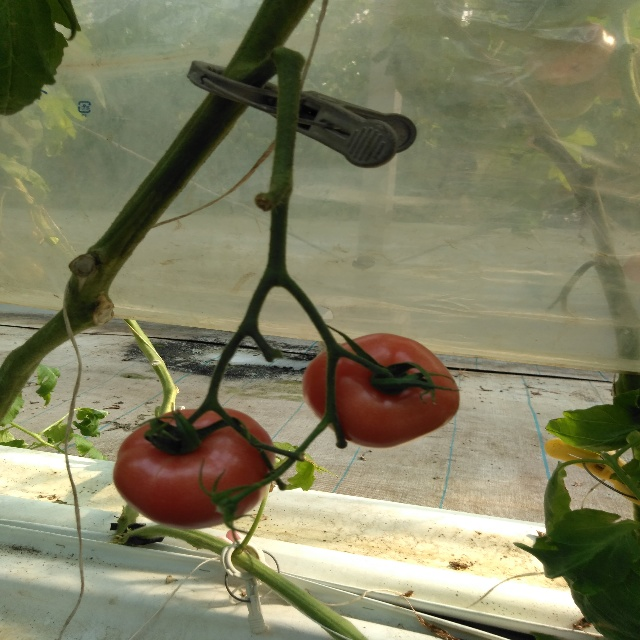b_fully_ripened: (111, 408, 275, 530), (301, 332, 461, 449)
